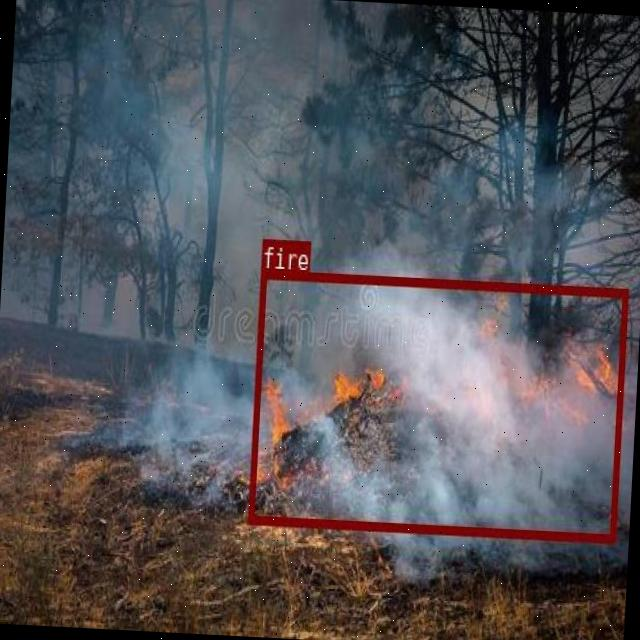fire: (248, 269, 628, 541)
